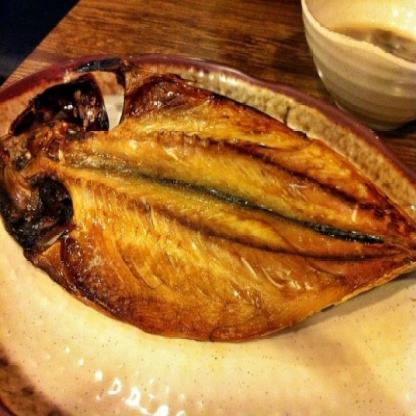Peixe: (0, 74, 416, 346)
